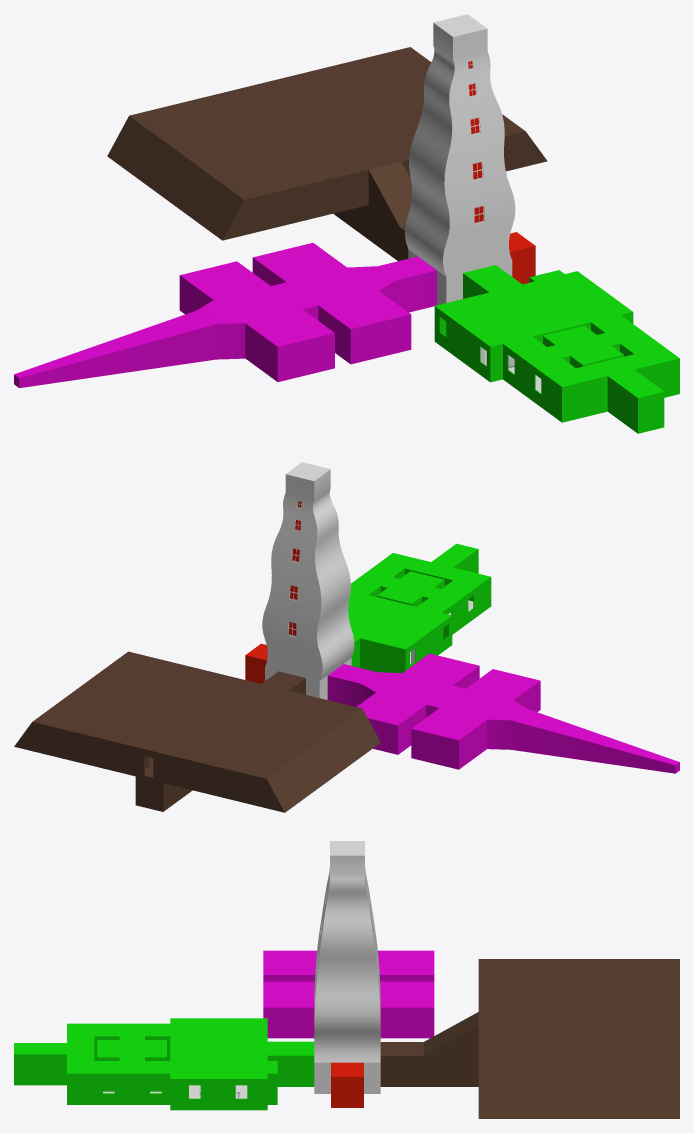
The model's file is SceneXRooms.fbx.
3 renders of one model, top to bottom at view 1: azimuth 30°, elevation 25°; view 2: azimuth 150°, elevation 25°; view 3: azimuth 270°, elevation 25°, orthographic. The views are drawn at different scales.
Parts seen in each view (by area): view 1: TheBrownButcher, ThePinkMenace, TheGreenGoblin, CenterRoom, TheRedBaron, CenterWindows; view 2: TheBrownButcher, ThePinkMenace, CenterRoom, TheGreenGoblin, TheRedBaron; view 3: TheBrownButcher, TheGreenGoblin, CenterRoom, ThePinkMenace, TheRedBaron.
Boxes of the visible parts, x1,y1,x2,y2 form: TheBrownButcher: (107, 47, 547, 261); ThePinkMenace: (14, 243, 436, 387); TheGreenGoblin: (434, 265, 679, 433); CenterRoom: (405, 14, 515, 305); TheRedBaron: (509, 232, 535, 284); CenterWindows: (468, 60, 484, 224); TheBrownButcher: (14, 651, 380, 812); ThePinkMenace: (327, 653, 679, 773); CenterRoom: (262, 462, 354, 699); TheGreenGoblin: (348, 543, 491, 673); TheRedBaron: (245, 643, 267, 683); TheBrownButcher: (380, 959, 679, 1118); TheGreenGoblin: (14, 1018, 314, 1110); CenterRoom: (314, 841, 380, 1093); ThePinkMenace: (263, 950, 434, 1038); TheRedBaron: (331, 1062, 363, 1107).
Bounding box in the file's own units: 5517 × 2305 × 6014.
